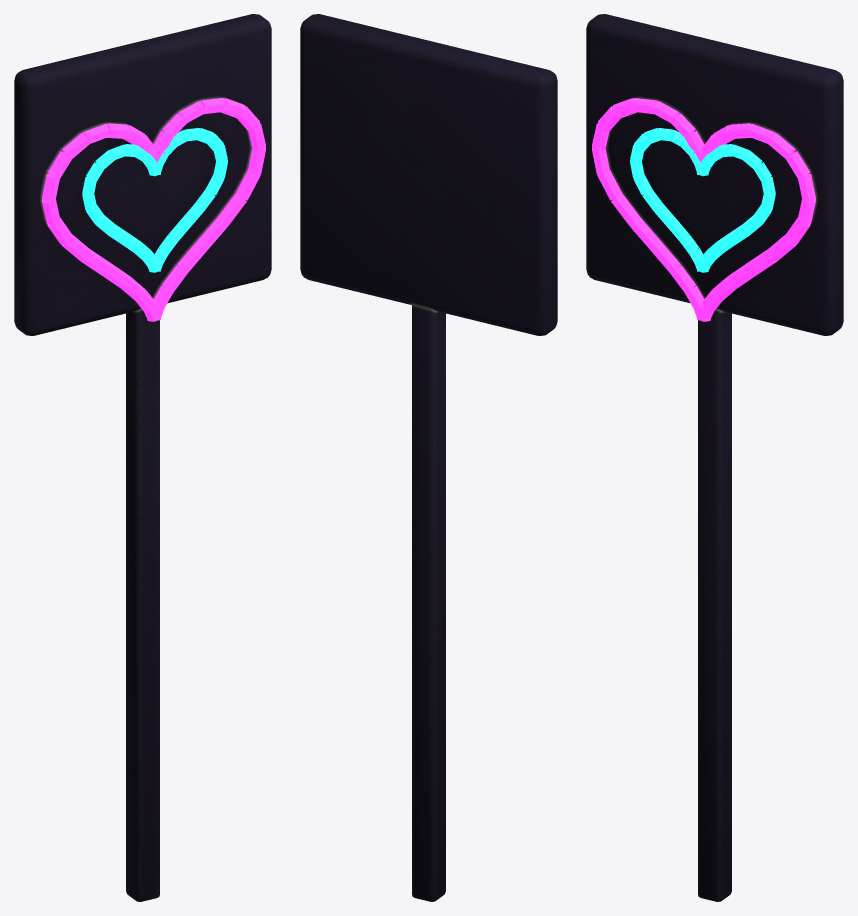
File: rn_heart_sign.glb
The picture shows the model from 3 angles, left to right: view 1: azimuth 30°, elevation 25°; view 2: azimuth 150°, elevation 25°; view 3: azimuth 330°, elevation 25°; orthographic projection.
Visible parts, largest first — view 1: rn_heart_sign; view 2: rn_heart_sign; view 3: rn_heart_sign.
Boxes of the visible parts, <box> form: rn_heart_sign: <box>14,14,271,901</box>; rn_heart_sign: <box>300,14,557,901</box>; rn_heart_sign: <box>586,14,843,901</box>.
Size of the model in its own units: 2.6 by 8.5 by 0.422.
3 materials, 3 textured.
